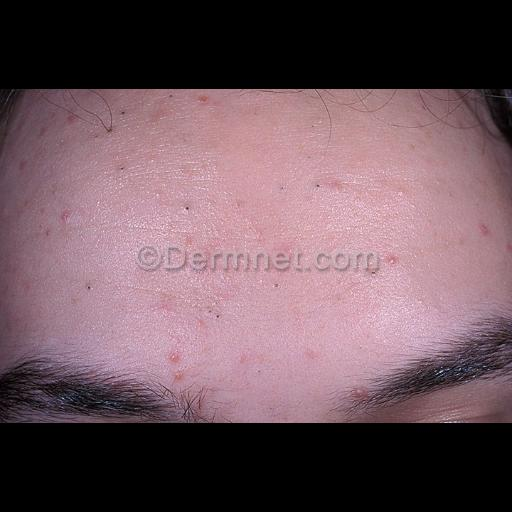Skin_Lesion: (194, 266, 236, 326), (147, 276, 177, 320), (262, 274, 288, 298), (310, 180, 346, 196), (164, 339, 186, 365), (384, 248, 404, 276), (58, 203, 80, 227), (78, 276, 98, 300), (175, 200, 199, 220), (350, 381, 368, 405), (112, 159, 138, 175), (477, 220, 493, 238), (194, 94, 212, 108), (164, 89, 180, 103), (16, 158, 30, 172), (172, 368, 186, 382)
